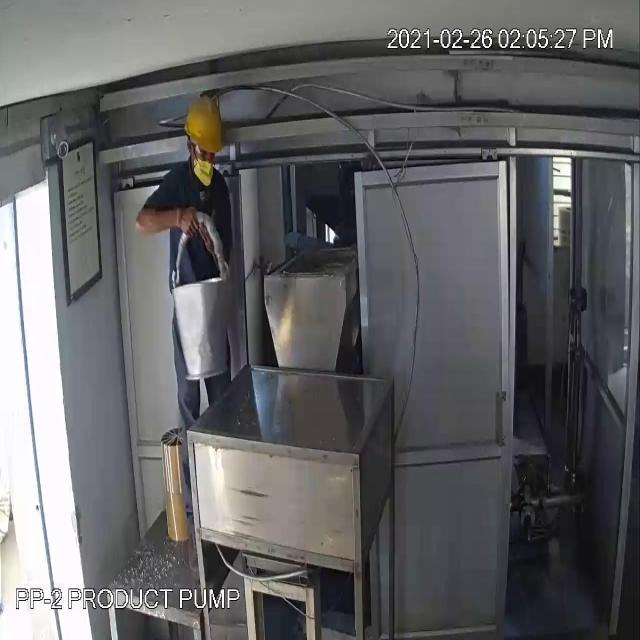helmet: (185, 86, 227, 172)
